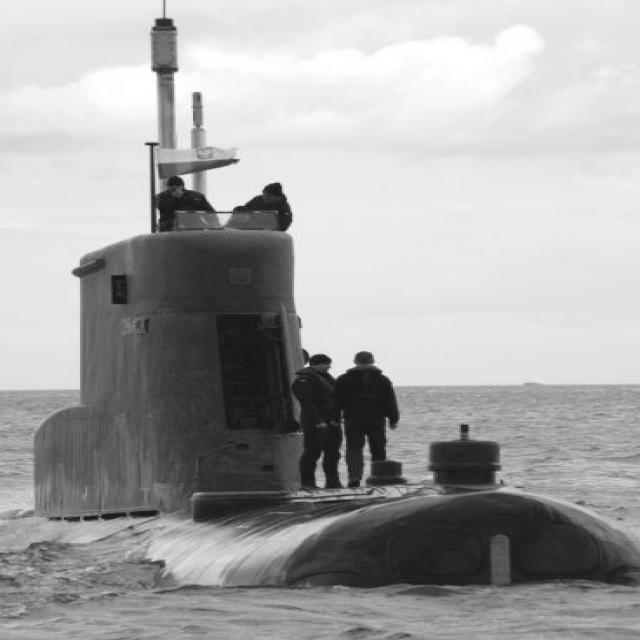submarine: (27, 229, 640, 587)
